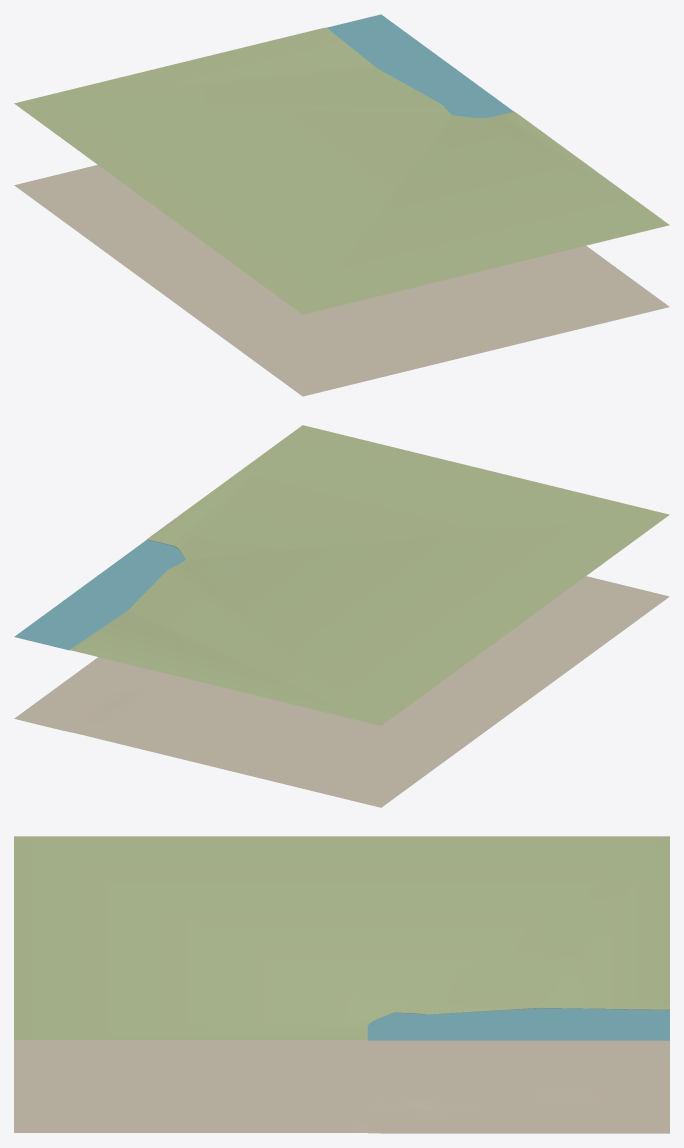
The picture shows the model from 3 angles, top to bottom: view 1: azimuth 30°, elevation 25°; view 2: azimuth 150°, elevation 25°; view 3: azimuth 270°, elevation 25°; orthographic projection. The views are drawn at different scales.
Parts seen in each view (by area): view 1: s_-13_6__grass, s_-13_6__soil, s_-13_6__water; view 2: s_-13_6__grass, s_-13_6__soil, s_-13_6__water; view 3: s_-13_6__grass, s_-13_6__soil, s_-13_6__water.
Part boxes in pixels (x1,y1,x2,y2): s_-13_6__grass: [14, 27, 669, 314]; s_-13_6__soil: [14, 165, 669, 396]; s_-13_6__water: [327, 14, 513, 117]; s_-13_6__grass: [69, 425, 669, 725]; s_-13_6__soil: [14, 576, 669, 807]; s_-13_6__water: [14, 539, 185, 650]; s_-13_6__grass: [14, 836, 669, 1040]; s_-13_6__soil: [14, 1012, 669, 1133]; s_-13_6__water: [367, 1008, 669, 1040].
Bounding box in the file's own units: 94 × 20.14 × 128.
